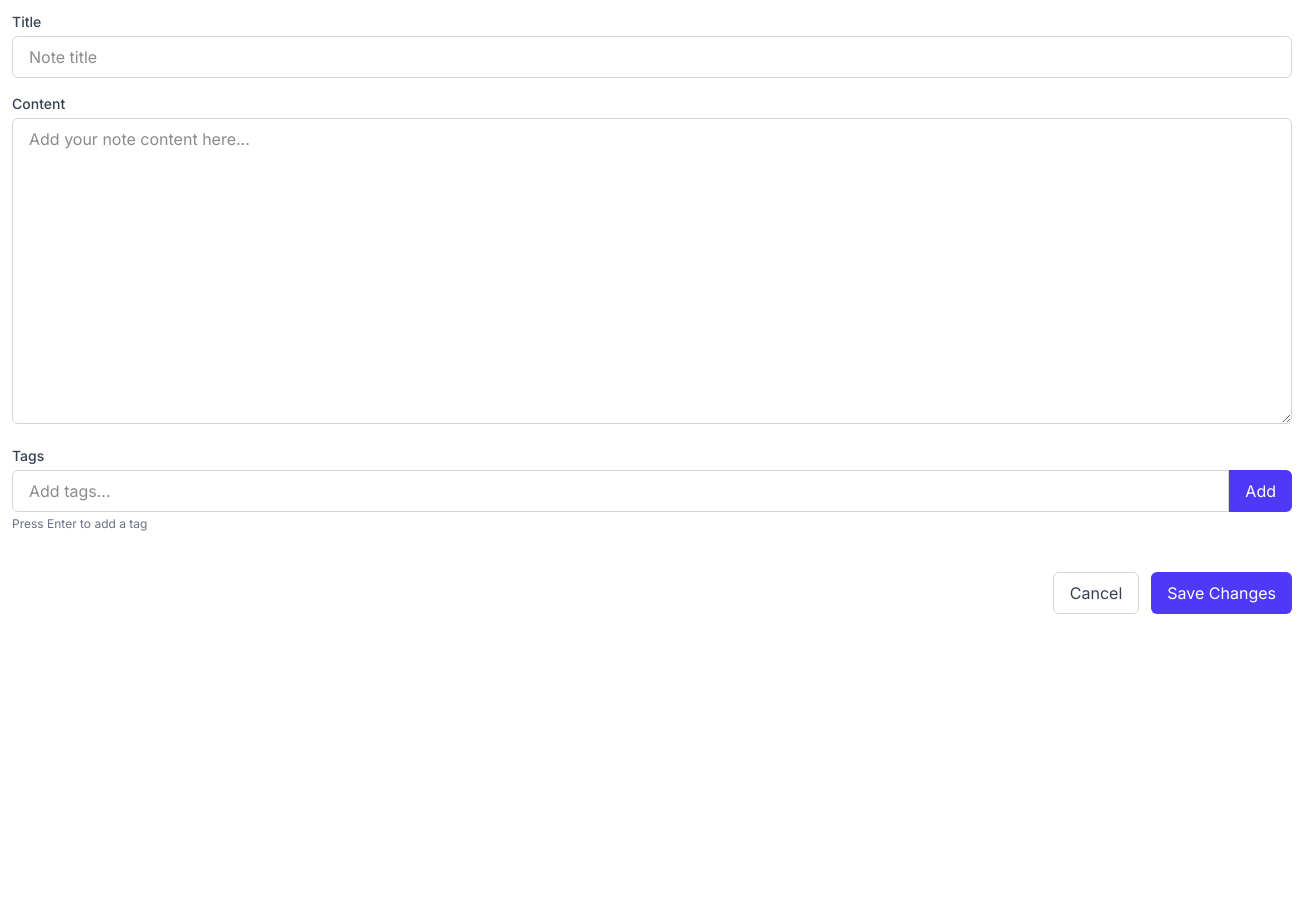
NoteEditor Component › should validate form and show errors when submitting empty fields
// Submit the form with empty fields
Click the button "Save Changes": [1222, 593] box [1151,572,1292,614]
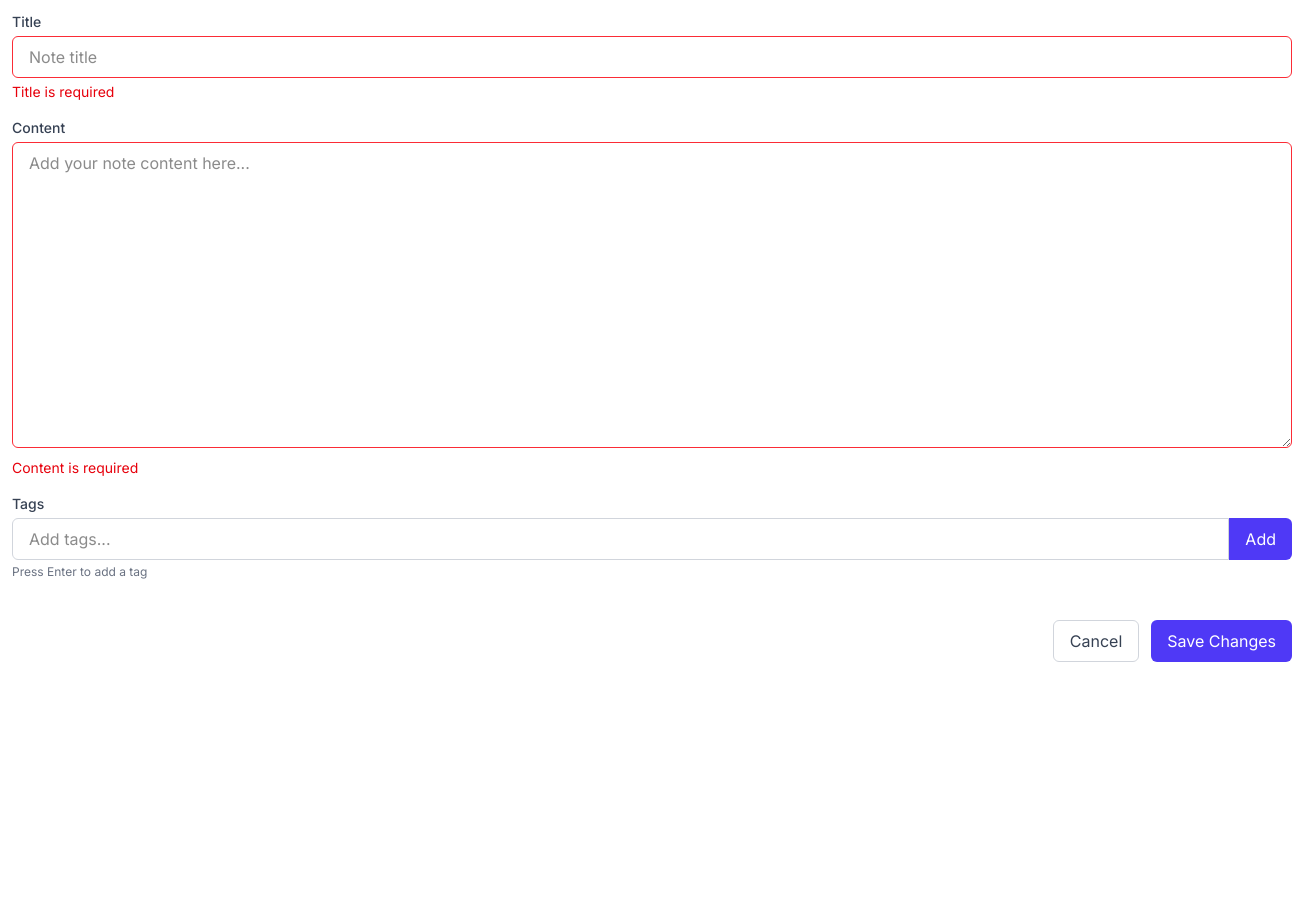
Expected: the text "Title is required" is shown, [12,83,114,100]
Expected: the text "Content is required" is shown, [12,459,138,476]
